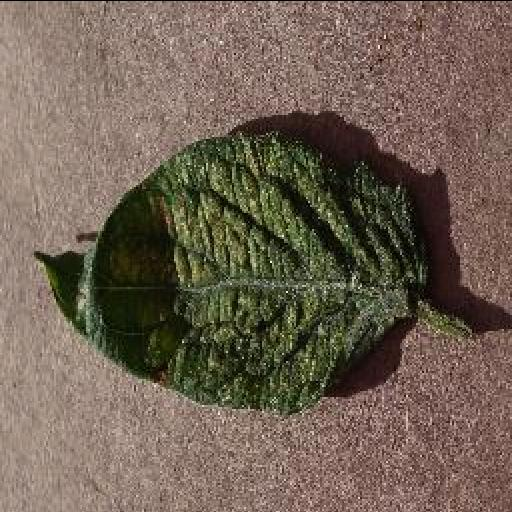disease_tomato: (34, 130, 428, 414)
